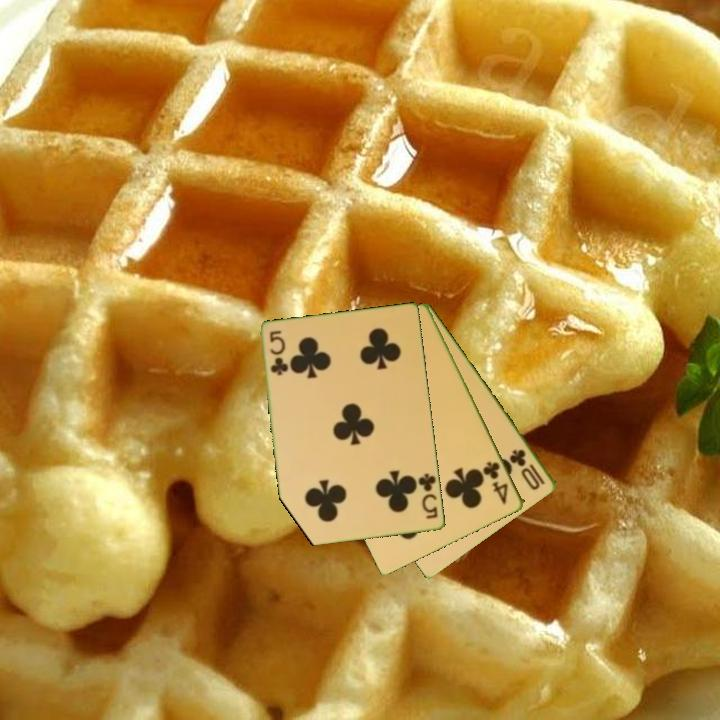10c: (506, 445, 548, 493)
4c: (480, 458, 511, 508)
5c: (415, 470, 441, 522), (266, 327, 290, 378)
